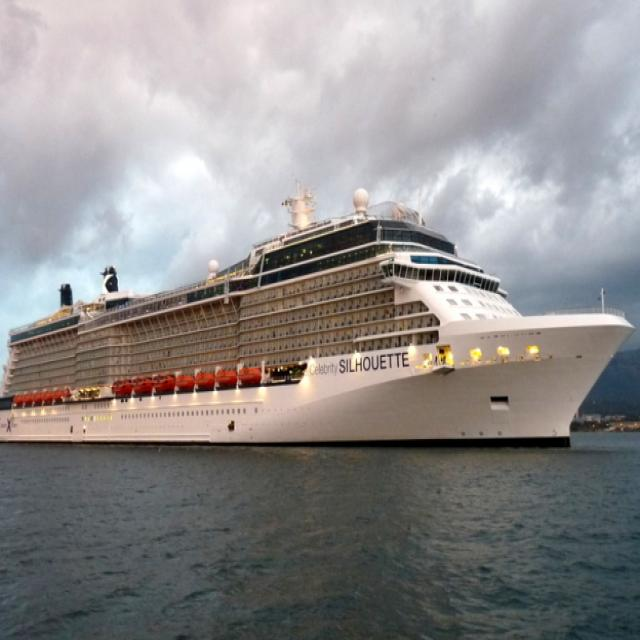cruises: (1, 171, 640, 465)
